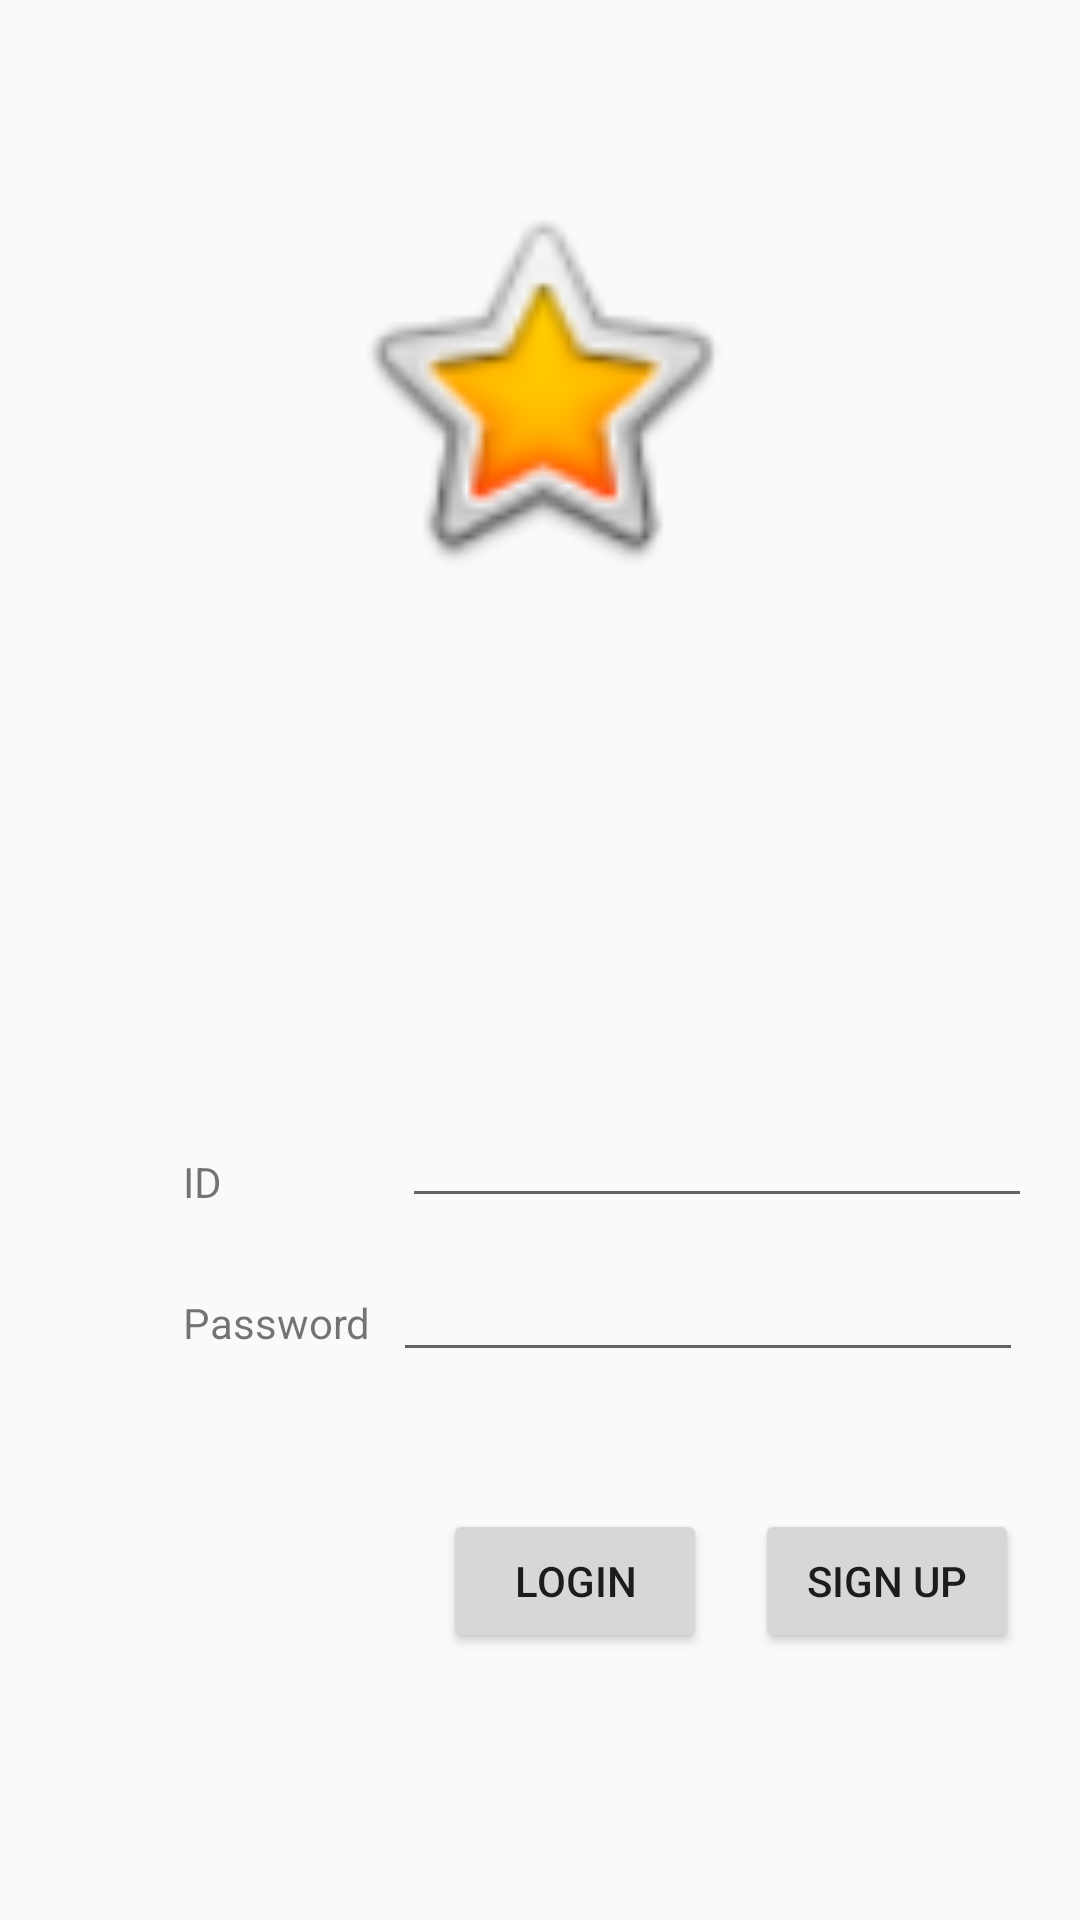

Named icons in this screenshot (1080 x 1920) and their bounding boxes, (x1, y1, x2, y2):
star on: (373, 224, 714, 556)
